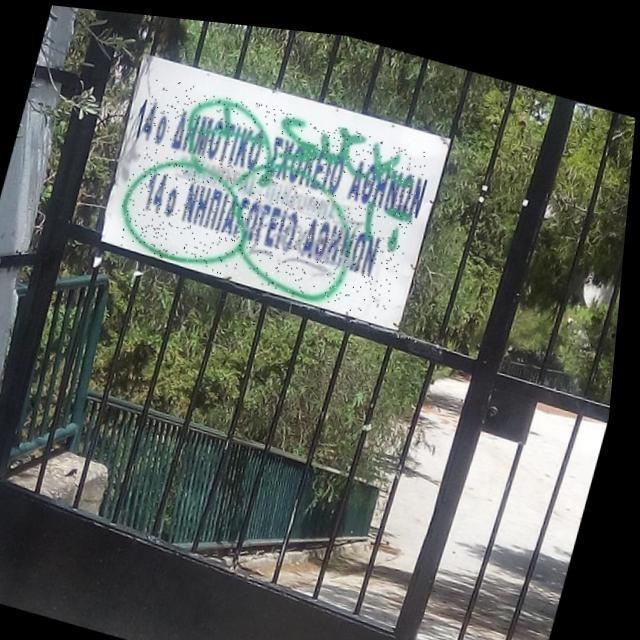-: (113, 69, 436, 314)
